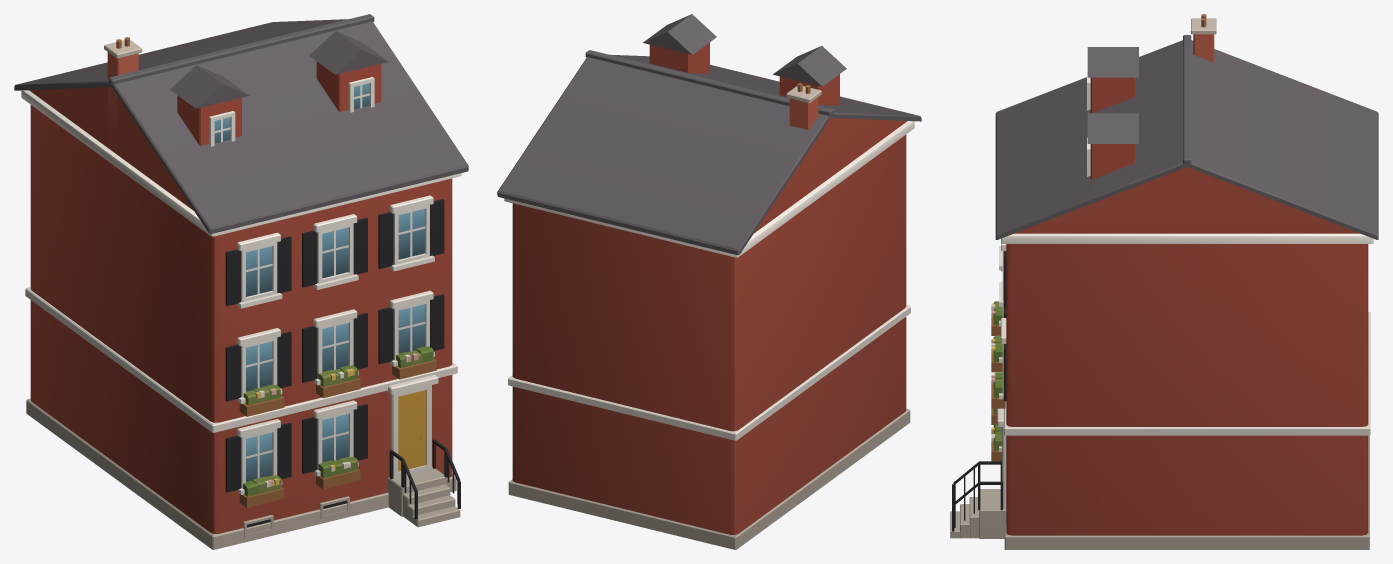
File: lane_w1.glb
3 views of the same model, side by side, from view 1: azimuth 30°, elevation 25°; view 2: azimuth 150°, elevation 25°; view 3: azimuth 270°, elevation 25° (orthographic). The views are drawn at different scales.
Parts seen in each view (by area): view 1: lane_w1; view 2: lane_w1; view 3: lane_w1.
Part boxes in pixels (bbox=[...]): lane_w1: bbox=[14, 14, 468, 549]; lane_w1: bbox=[497, 14, 921, 549]; lane_w1: bbox=[950, 14, 1378, 549].
Bounding box in the file's own units: 9.8 × 15.45 × 14.21.
Materials: 1 (1 with a texture image).
